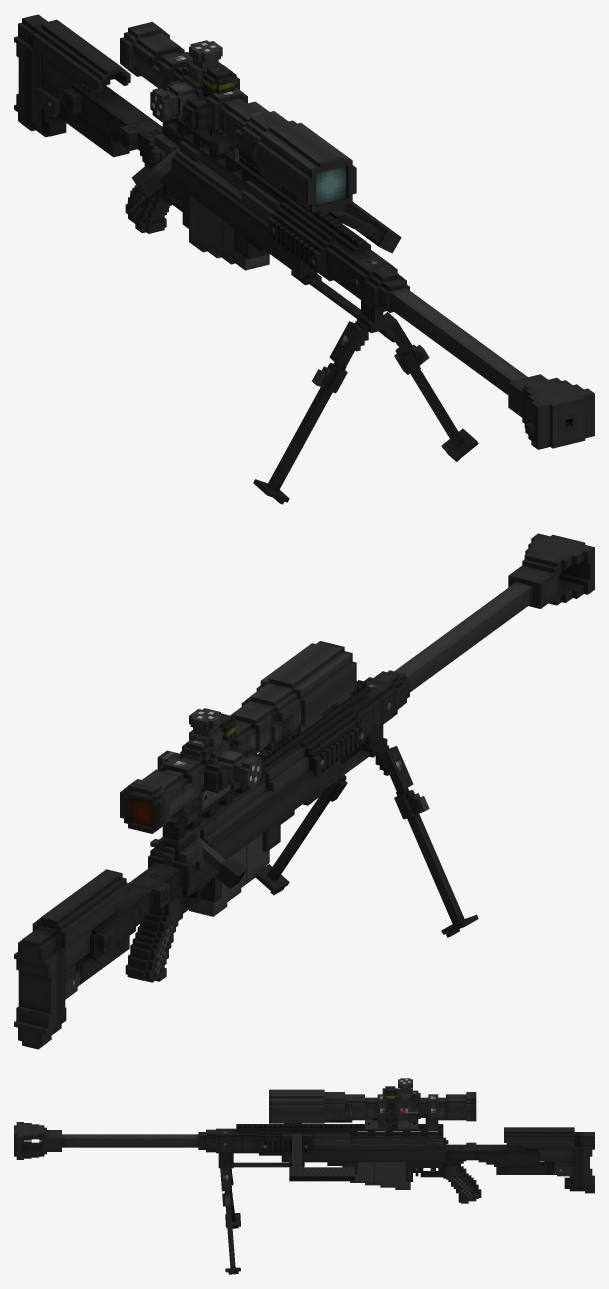
Rendered from RD_HECATE2.glb.
3 renders of one model, top to bottom at view 1: azimuth 30°, elevation 25°; view 2: azimuth 150°, elevation 25°; view 3: azimuth 270°, elevation 25°, orthographic. The views are drawn at different scales.
Parts seen in each view (by area): view 1: HECATE2, SCOPE_LEUPOLD_ULTRA, HECATE2_DIPOD_LEG1, SCOPE_LEUPOLD, HECATE2_DIPOD_LEG2, HECATE2_CLIP, HECATE2_BOLT_P2, SCOPE_NIGHTFORCE; view 2: HECATE2, SCOPE_LEUPOLD_ULTRA, SCOPE_NIGHTFORCE, HECATE2_DIPOD_LEG1, HECATE2_DIPOD_LEG2, SCOPE_LEUPOLD, HECATE2_CLIP, HECATE2_BOLT_P1, HECATE2_BOLT_P2; view 3: HECATE2, SCOPE_LEUPOLD_ULTRA, SCOPE_NIGHTFORCE, HECATE2_CLIP, SCOPE_LEUPOLD, HECATE2_DIPOD_LEG2.
Part boxes in pixels (x1,y1,x2,y2): HECATE2: (14, 14, 594, 449); SCOPE_LEUPOLD_ULTRA: (120, 22, 356, 214); HECATE2_DIPOD_LEG1: (253, 321, 364, 504); SCOPE_LEUPOLD: (125, 52, 296, 201); HECATE2_DIPOD_LEG2: (383, 312, 478, 461); HECATE2_CLIP: (189, 198, 269, 270); HECATE2_BOLT_P2: (131, 146, 179, 196); SCOPE_NIGHTFORCE: (157, 54, 301, 205); HECATE2: (14, 533, 594, 1049); SCOPE_LEUPOLD_ULTRA: (120, 641, 356, 829); SCOPE_NIGHTFORCE: (124, 702, 338, 833); HECATE2_DIPOD_LEG1: (380, 746, 478, 937); HECATE2_DIPOD_LEG2: (255, 749, 355, 895); SCOPE_LEUPOLD: (128, 705, 333, 833); HECATE2_CLIP: (189, 834, 269, 916); HECATE2_BOLT_P1: (162, 781, 265, 866); HECATE2_BOLT_P2: (195, 838, 247, 888); HECATE2: (14, 1122, 594, 1203); SCOPE_LEUPOLD_ULTRA: (269, 1078, 476, 1130); SCOPE_NIGHTFORCE: (284, 1090, 475, 1129); HECATE2_CLIP: (350, 1162, 410, 1189); SCOPE_LEUPOLD: (289, 1086, 465, 1129); HECATE2_DIPOD_LEG2: (220, 1167, 240, 1274).
Size of the model in its own units: 0.5136 by 0.7326 by 2.26.
Materials: 4 (4 with a texture image).
